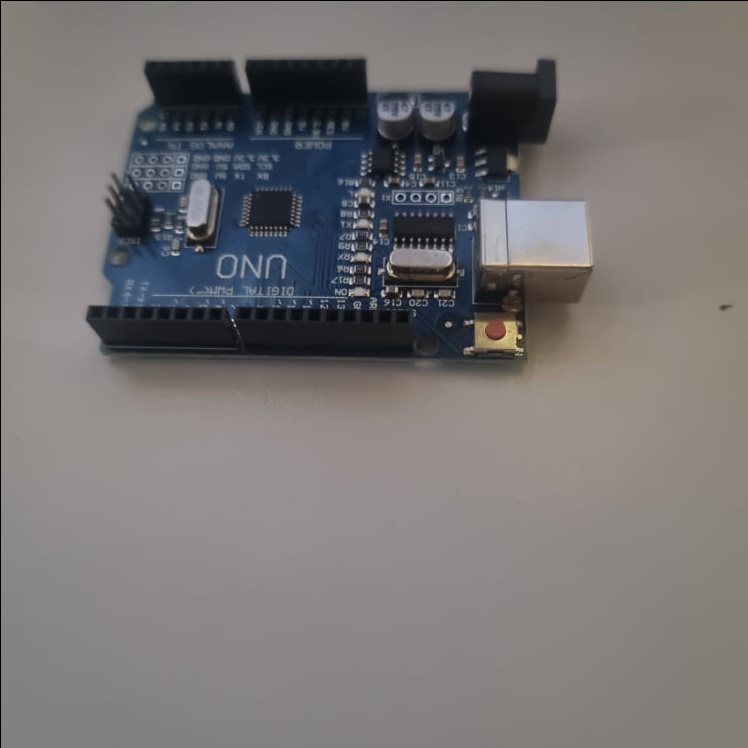UNO R3: (84, 59, 595, 357)
